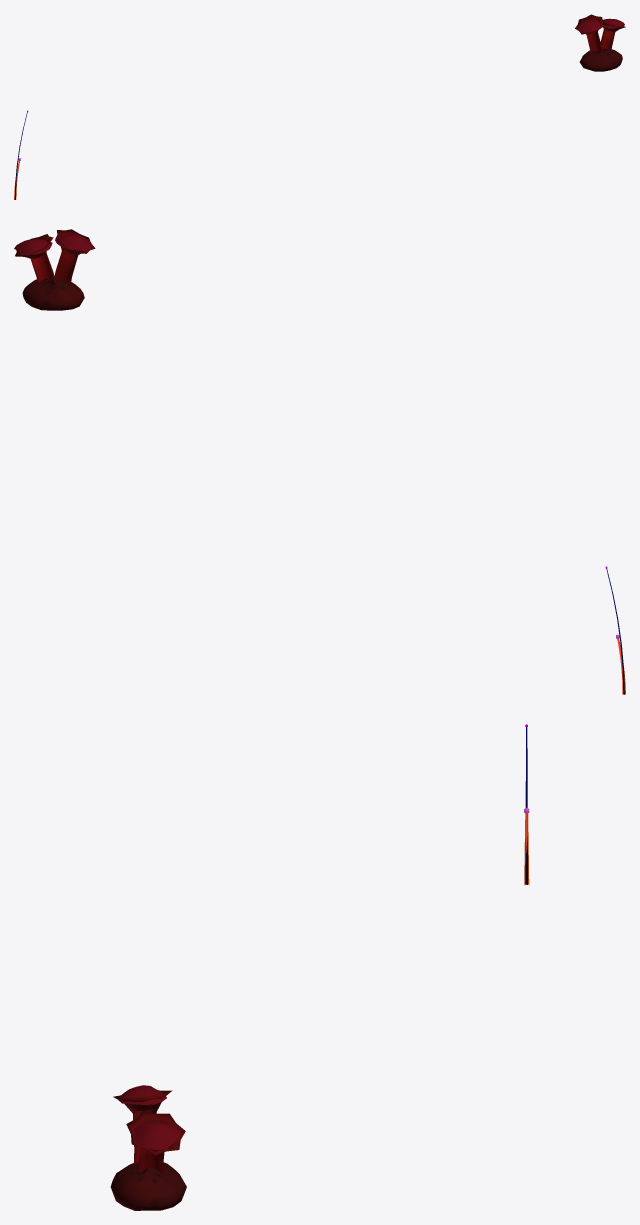
The model's file is gold_torch.glb.
3 renders of one model, top to bottom at view 1: azimuth 30°, elevation 25°; view 2: azimuth 150°, elevation 25°; view 3: azimuth 270°, elevation 25°, orthographic. The views are drawn at different scales.
Visible parts, largest first — view 1: Body; view 2: Body; view 3: Body.
Part boxes in pixels (<box>): Body: <box>575,14,625,71</box>; Body: <box>14,229,95,310</box>; Body: <box>110,1085,186,1210</box>.
Size of the model in its own units: 63.12 by 15.59 by 22.14.
Materials: 5 (4 with a texture image).
